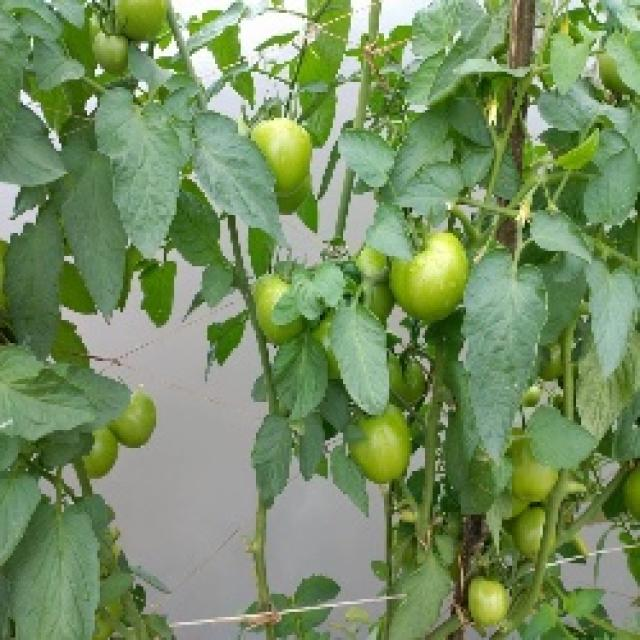tomato: (389, 220, 474, 338), (252, 101, 325, 200), (347, 403, 420, 491), (506, 445, 573, 516), (459, 572, 526, 640), (105, 391, 168, 463), (250, 265, 295, 365), (92, 26, 143, 87), (107, 7, 186, 44), (73, 423, 121, 481), (513, 507, 553, 565)
